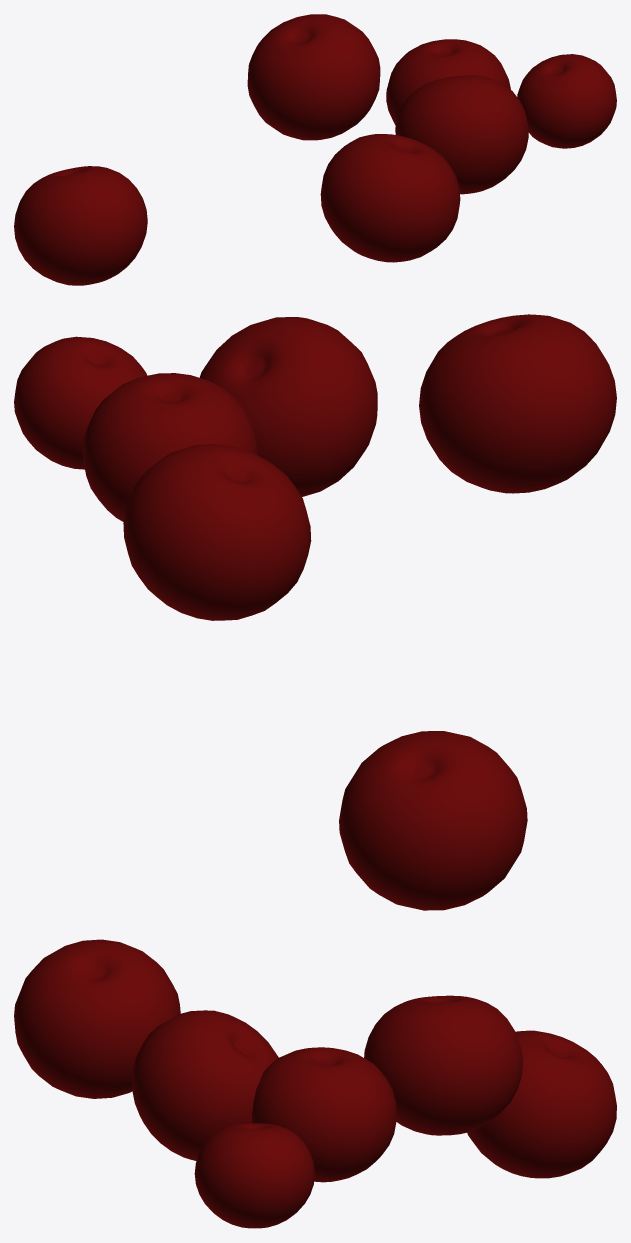
Rendered from Tomatoes.obj.
3 views of the same model, one above another, from view 1: azimuth 30°, elevation 25°; view 2: azimuth 150°, elevation 25°; view 3: azimuth 270°, elevation 25° (orthographic). The views are drawn at different scales.
Parts seen in each view (by area): view 1: Tomatoes_Sphere.034; view 2: Tomatoes_Sphere.034; view 3: Tomatoes_Sphere.034.
Boxes of the visible parts, x1,y1,x2,y2 form: Tomatoes_Sphere.034: (14, 14, 616, 285); Tomatoes_Sphere.034: (14, 314, 616, 910); Tomatoes_Sphere.034: (14, 939, 616, 1228).
Size of the model in its own units: 0.2082 by 0.1045 by 0.195.
